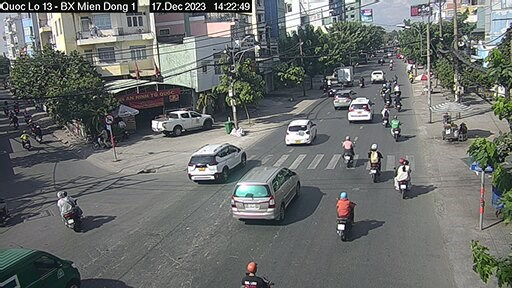car: (231, 166, 304, 221), (184, 143, 246, 180), (150, 110, 217, 135), (346, 98, 376, 125), (286, 119, 318, 143), (334, 89, 355, 109), (368, 70, 386, 83)
motorbike: (51, 187, 82, 229), (392, 160, 417, 196), (336, 194, 356, 239), (339, 133, 359, 168), (370, 143, 385, 180), (390, 115, 406, 142)
